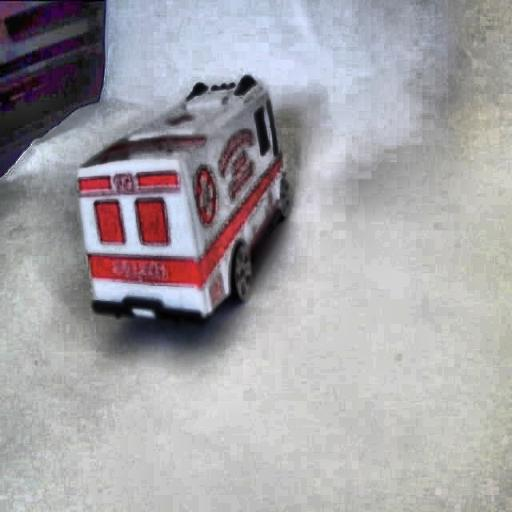ambulance: (76, 74, 290, 324)
